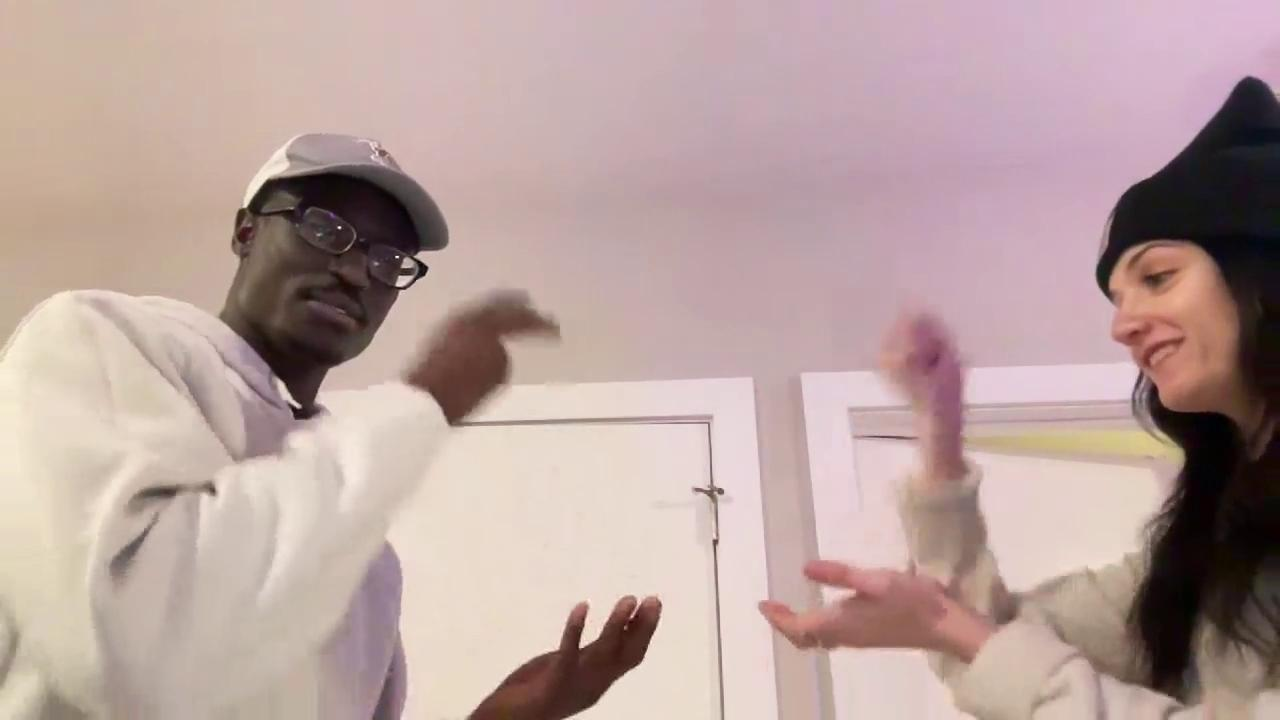Rock: (875, 308, 968, 409)
Scissors: (433, 292, 559, 421)
